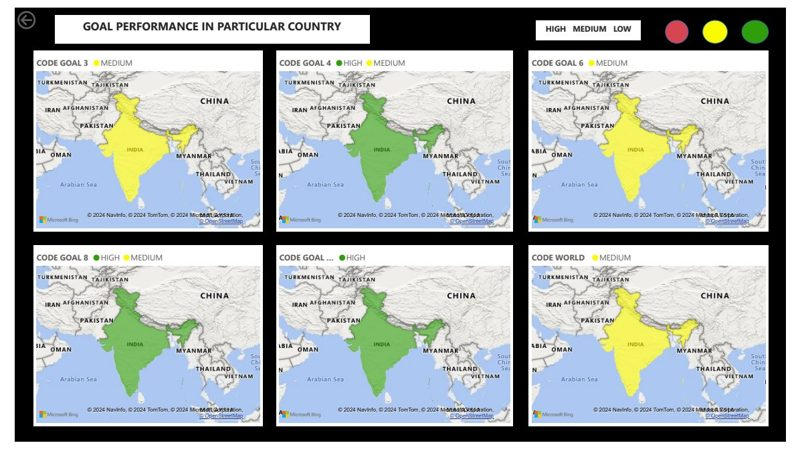

This screenshot's page, from the dashboard's own definition file:
{"tool":"powerbi","page":{"name":"OVERVIEW DETAILS","canvas":[1280,720],"ordinal":2},"visuals":[{"type":"actionButton","box":[0,0,100,40],"z":0},{"type":"filledMap","fields":{"Category":["RANKING out of 100.country"],"Series":["RANKING out of 100.CODE GOAL 3"]},"box":[31.8,71.2,380.1,299.8],"z":1000},{"type":"filledMap","fields":{"Series":["RANKING out of 100.CODE GOAL 8"],"Category":["RANKING out of 100.country"]},"box":[31.8,393.7,380.1,299.8],"z":2000},{"type":"filledMap","fields":{"Series":["RANKING out of 100.CODE GOAL 4"],"Category":["RANKING out of 100.country"]},"box":[434.6,71.2,393.7,299.8],"z":3000},{"type":"filledMap","fields":{"Series":["RANKING out of 100.CODE GOAL 13"],"Category":["RANKING out of 100.country"]},"box":[434.6,393.7,393.7,299.8],"z":4000},{"type":"filledMap","fields":{"Series":["RANKING out of 100.CODE GOAL 6"],"Category":["RANKING out of 100.country"]},"box":[854,71.2,398.2,299.8],"z":5000},{"type":"filledMap","fields":{"Series":["RANKING out of 100.CODE WORLD "],"Category":["RANKING out of 100.country"]},"box":[854,393.7,398.2,299.8],"z":6000},{"type":"textbox","box":[66.6,12.1,522.4,46.9],"z":7000},{"type":"shape","box":[1141.7,19.7,42.4,39.4],"z":8000},{"type":"shape","box":[1206.8,19.7,45.4,39.4],"z":9000},{"type":"shape","box":[1079.6,19.7,39.4,39.4],"z":10000},{"type":"textbox","box":[866.1,19.7,174.1,33.3],"z":11000}]}

Visuals, with their boxes in screenshot pixels (x1, y1, x2, y2), scaled from the page's 1280x720 canvas onto the 800x450 screenshot:
actionButton: pyautogui.locateOnScreen(0, 0, 62, 25)
filledMap - RANKING out of 100.country x RANKING out of 100.CODE GOAL 3: pyautogui.locateOnScreen(20, 44, 257, 232)
filledMap - RANKING out of 100.CODE GOAL 8 x RANKING out of 100.country: pyautogui.locateOnScreen(20, 246, 257, 433)
filledMap - RANKING out of 100.CODE GOAL 4 x RANKING out of 100.country: pyautogui.locateOnScreen(272, 44, 518, 232)
filledMap - RANKING out of 100.CODE GOAL 13 x RANKING out of 100.country: pyautogui.locateOnScreen(272, 246, 518, 433)
filledMap - RANKING out of 100.CODE GOAL 6 x RANKING out of 100.country: pyautogui.locateOnScreen(534, 44, 783, 232)
filledMap - RANKING out of 100.CODE WORLD  x RANKING out of 100.country: pyautogui.locateOnScreen(534, 246, 783, 433)
textbox: pyautogui.locateOnScreen(42, 8, 368, 37)
shape: pyautogui.locateOnScreen(714, 12, 740, 37)
shape: pyautogui.locateOnScreen(754, 12, 783, 37)
shape: pyautogui.locateOnScreen(675, 12, 699, 37)
textbox: pyautogui.locateOnScreen(541, 12, 650, 33)
